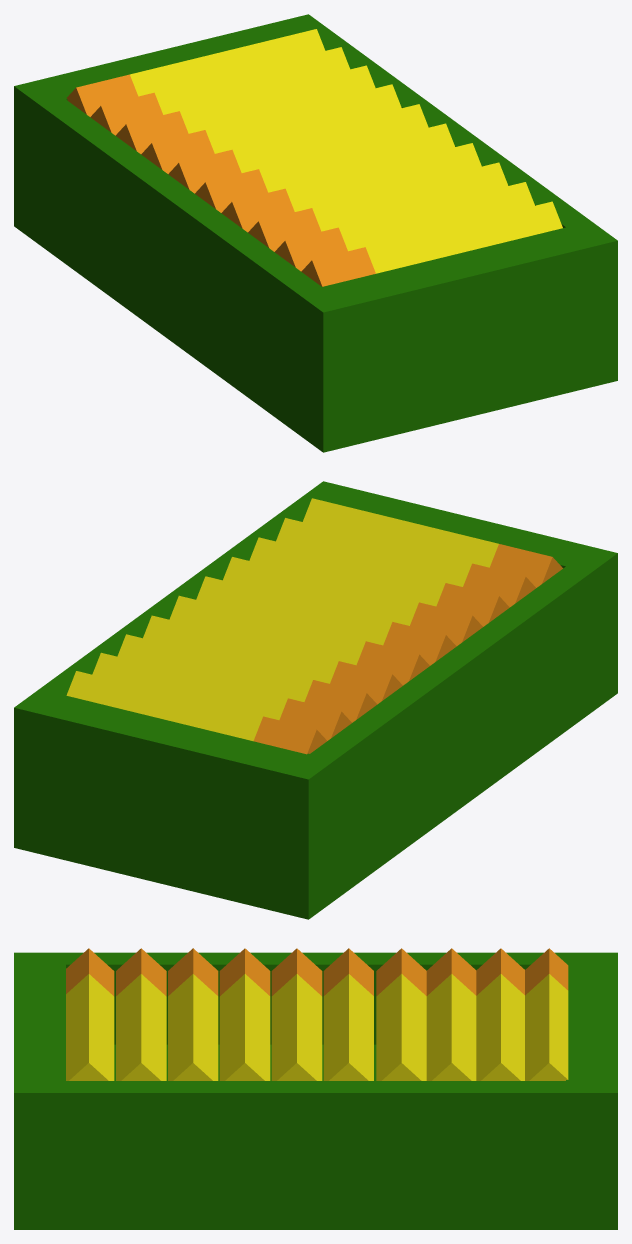
Rendered from AmmoBox.gltf.
The picture shows the model from 3 angles, top to bottom: view 1: azimuth 30°, elevation 25°; view 2: azimuth 150°, elevation 25°; view 3: azimuth 270°, elevation 25°; orthographic projection. The views are drawn at different scales.
Visible parts, largest first — view 1: Cube.010; view 2: Cube.010; view 3: Cube.010.
Boxes of the visible parts, x1,y1,x2,y2 form: Cube.010: [14, 14, 617, 452]; Cube.010: [14, 481, 617, 919]; Cube.010: [14, 948, 617, 1229].
Size of the model in its own units: 1.1 by 0.5633 by 2.
